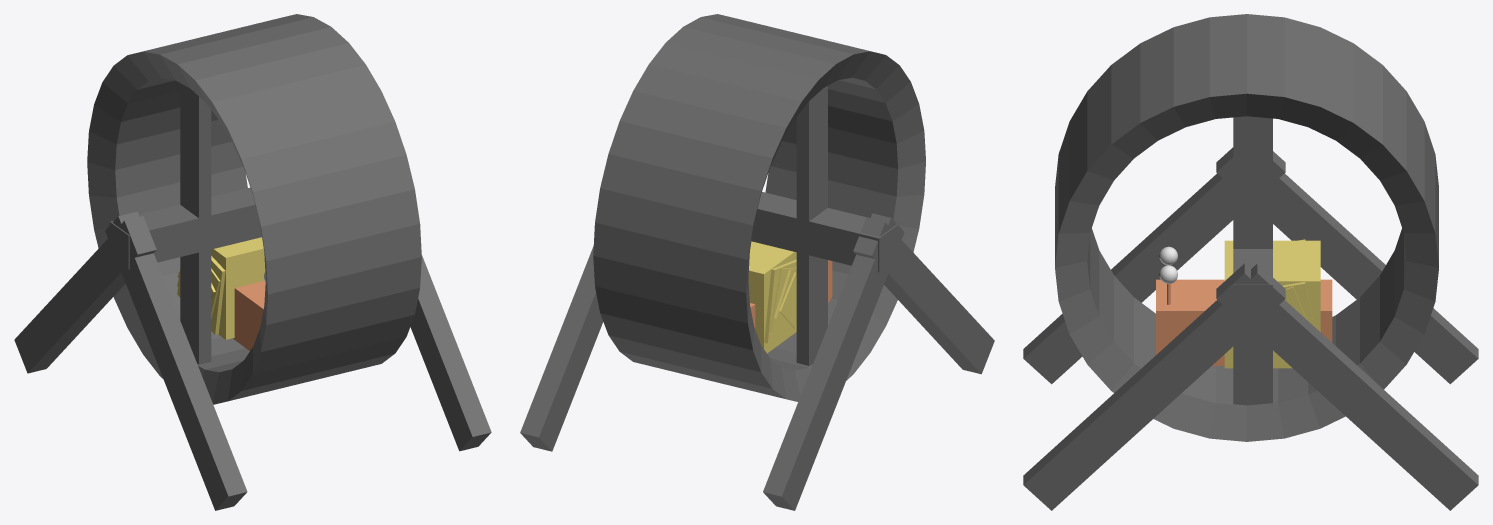
File: tortured1.fbx
3 views of the same model, side by side, from view 1: azimuth 30°, elevation 25°; view 2: azimuth 150°, elevation 25°; view 3: azimuth 270°, elevation 25° (orthographic). The views are drawn at different scales.
Parts seen in each view (by area): view 1: Cylinder, Cube, Cube.005; view 2: Cylinder, Cube; view 3: Cylinder, Cube, Cube.005.
Part boxes in pixels (box(x1,y1,x2,y2)): Cylinder: box(14, 14, 491, 510); Cube: box(177, 237, 265, 339); Cube.005: box(233, 281, 265, 350); Cylinder: box(520, 14, 994, 510); Cube: box(748, 241, 796, 353); Cylinder: box(1023, 14, 1478, 510); Cube: box(1224, 239, 1320, 368); Cube.005: box(1156, 279, 1332, 365).
Size of the model in its own units: 677 by 893 by 948.
